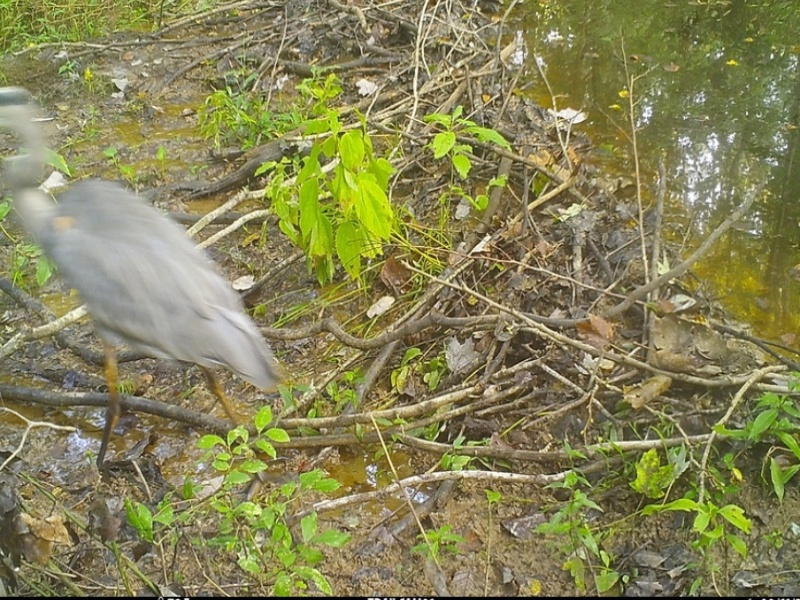heron: (1, 78, 302, 469)
